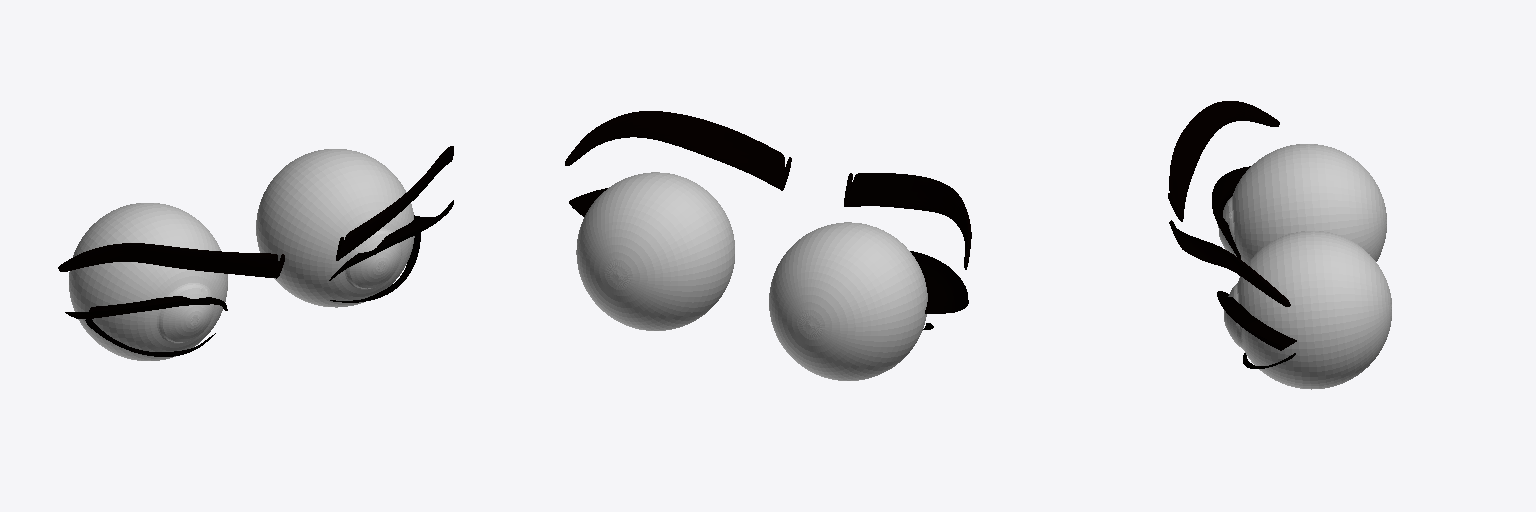
File: ojoV3.obj
The picture shows the model from 3 angles: view 1: azimuth 30°, elevation 25°; view 2: azimuth 150°, elevation 25°; view 3: azimuth 270°, elevation 25°; orthographic projection.
Parts seen in each view (by area): view 1: Sphere.001, Plane.006, Plane.007, Plane.008; view 2: Sphere.001, Plane.006, Plane.007; view 3: Sphere.001, Plane.006, Plane.007.
Part boxes in pixels (x1,y1,x2,y2): Sphere.001: (69,149,414,360); Plane.006: (58,146,453,278); Plane.007: (65,200,453,318); Plane.008: (85,232,420,356); Sphere.001: (576,172,927,380); Plane.006: (565,111,971,269); Plane.007: (569,188,968,313); Sphere.001: (1218,144,1391,389); Plane.006: (1168,101,1290,306); Plane.007: (1212,166,1296,350).
Bounding box in the file's own units: 1.93 × 0.7914 × 0.9492.